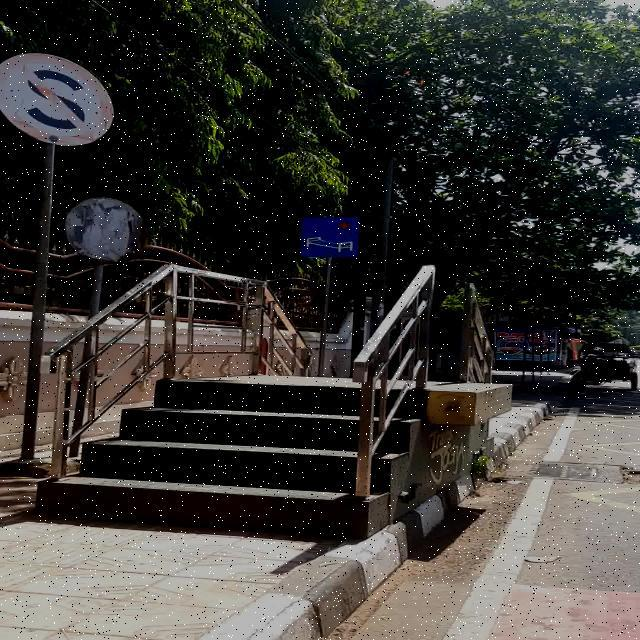Rumah Sakit: (300, 216, 360, 256)
